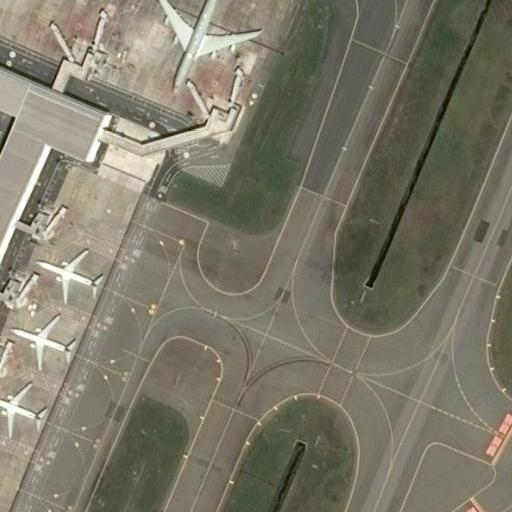Aircraft: (149, 0, 256, 95), (151, 0, 260, 91), (34, 245, 106, 304), (8, 311, 78, 370), (37, 248, 98, 306), (10, 314, 71, 372), (0, 379, 48, 438), (0, 381, 43, 437)
